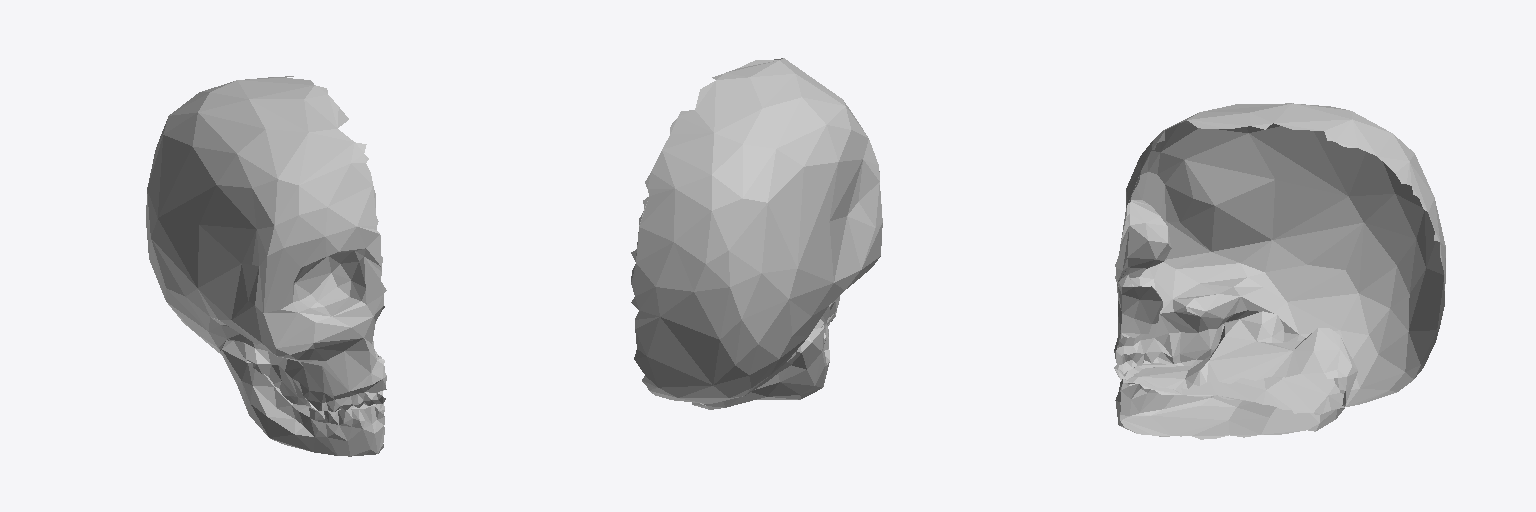
The model's file is whiteskull2.obj.
The picture shows the model from 3 angles: view 1: azimuth 30°, elevation 25°; view 2: azimuth 150°, elevation 25°; view 3: azimuth 270°, elevation 25°; orthographic projection.
Parts seen in each view (by area): view 1: whiteskull.001; view 2: whiteskull.001; view 3: whiteskull.001.
Boxes of the visible parts, x1,y1,x2,y2 form: whiteskull.001: [146, 76, 386, 456]; whiteskull.001: [631, 58, 882, 409]; whiteskull.001: [1114, 103, 1445, 439].
Bounding box in the file's own units: 1.46 × 3.49 × 3.29.